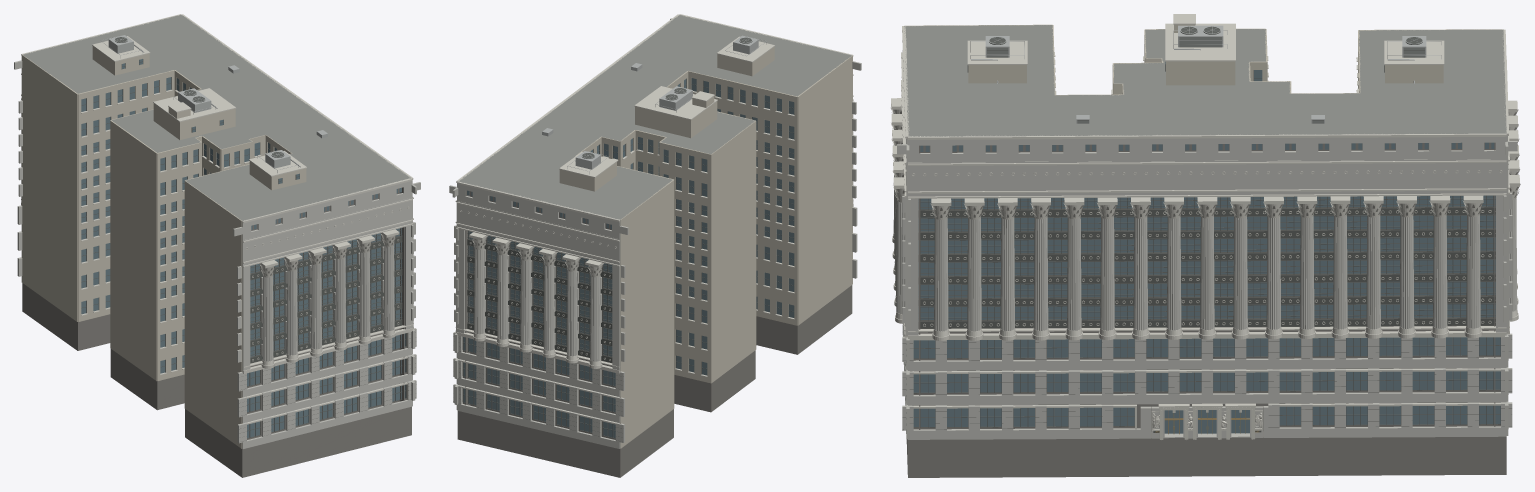
The model's file is county_building.glb.
3 views of the same model, side by side, from view 1: azimuth 30°, elevation 25°; view 2: azimuth 150°, elevation 25°; view 3: azimuth 270°, elevation 25° (orthographic). The views are drawn at different scales.
Parts seen in each view (by area): view 1: Pale utilitarian light court masonry, Woodbury grey granite, Roof slab and coping, Opaque recessed backing and unsurveyed courts, Separate recessed blue grey sash panes, Pale granite and terra cotta relief, Dark terra cotta spandrels and sashes, County roof galvanized equipment and pipes; view 2: Pale utilitarian light court masonry, Woodbury grey granite, Roof slab and coping, Opaque recessed backing and unsurveyed courts, Separate recessed blue grey sash panes, Pale granite and terra cotta relief, Dark terra cotta spandrels and sashes, County roof galvanized equipment and pipes; view 3: Woodbury grey granite, Separate recessed blue grey sash panes, Roof slab and coping, Dark terra cotta spandrels and sashes, Pale granite and terra cotta relief, Opaque recessed backing and unsurveyed courts, Pale utilitarian light court masonry, County roof galvanized equipment and pipes.
Part boxes in pixels (box(x1,y1,x2,y2)): Pale utilitarian light court masonry: box(21, 46, 306, 448); Woodbury grey granite: box(14, 60, 420, 448); Roof slab and coping: box(23, 14, 410, 220); Opaque recessed backing and unsurveyed courts: box(22, 187, 411, 477); Separate recessed blue grey sash panes: box(81, 59, 405, 437); Pale granite and terra cotta relief: box(21, 14, 413, 435); Dark terra cotta spandrels and sashes: box(81, 37, 416, 442); County roof galvanized equipment and pipes: box(100, 35, 327, 172); Pale utilitarian light court masonry: box(559, 47, 852, 448); Woodbury grey granite: box(449, 18, 861, 448); Roof slab and coping: box(458, 14, 851, 219); Opaque recessed backing and unsurveyed courts: box(457, 190, 852, 477); Separate recessed blue grey sash panes: box(463, 78, 794, 437); Pale granite and terra cotta relief: box(455, 14, 853, 436); Dark terra cotta spandrels and sashes: box(453, 37, 794, 441); County roof galvanized equipment and pipes: box(542, 35, 766, 174); Woodbury grey granite: box(893, 52, 1517, 439); Separate recessed blue grey sash panes: box(913, 62, 1500, 433); Roof slab and coping: box(904, 25, 1506, 136); Dark terra cotta spandrels and sashes: box(902, 26, 1511, 432); Pale granite and terra cotta relief: box(890, 14, 1520, 439); Opaque recessed backing and unsurveyed courts: box(906, 142, 1506, 477); Pale utilitarian light court masonry: box(904, 24, 1503, 95); County roof galvanized equipment and pipes: box(970, 25, 1441, 123).
Size of the model in its own units: 54.23 by 78.21 by 118.
